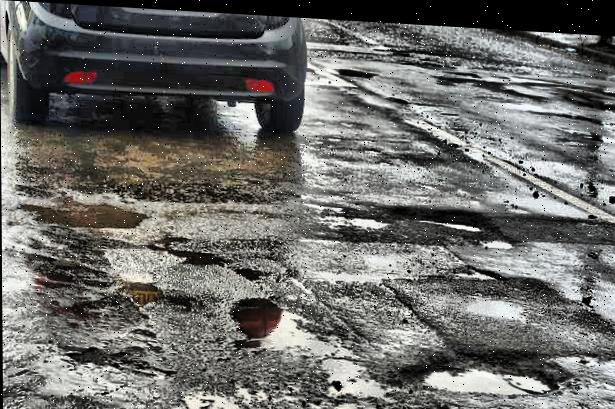pothole: (401, 334, 562, 398), (386, 195, 520, 248), (447, 254, 501, 277)
